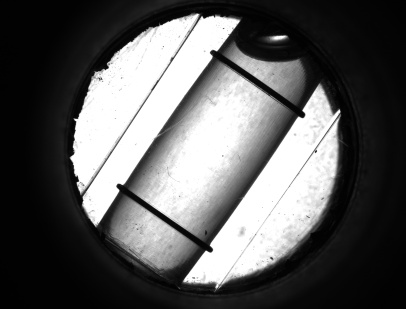line: (127, 198, 196, 233), (230, 73, 291, 98)
